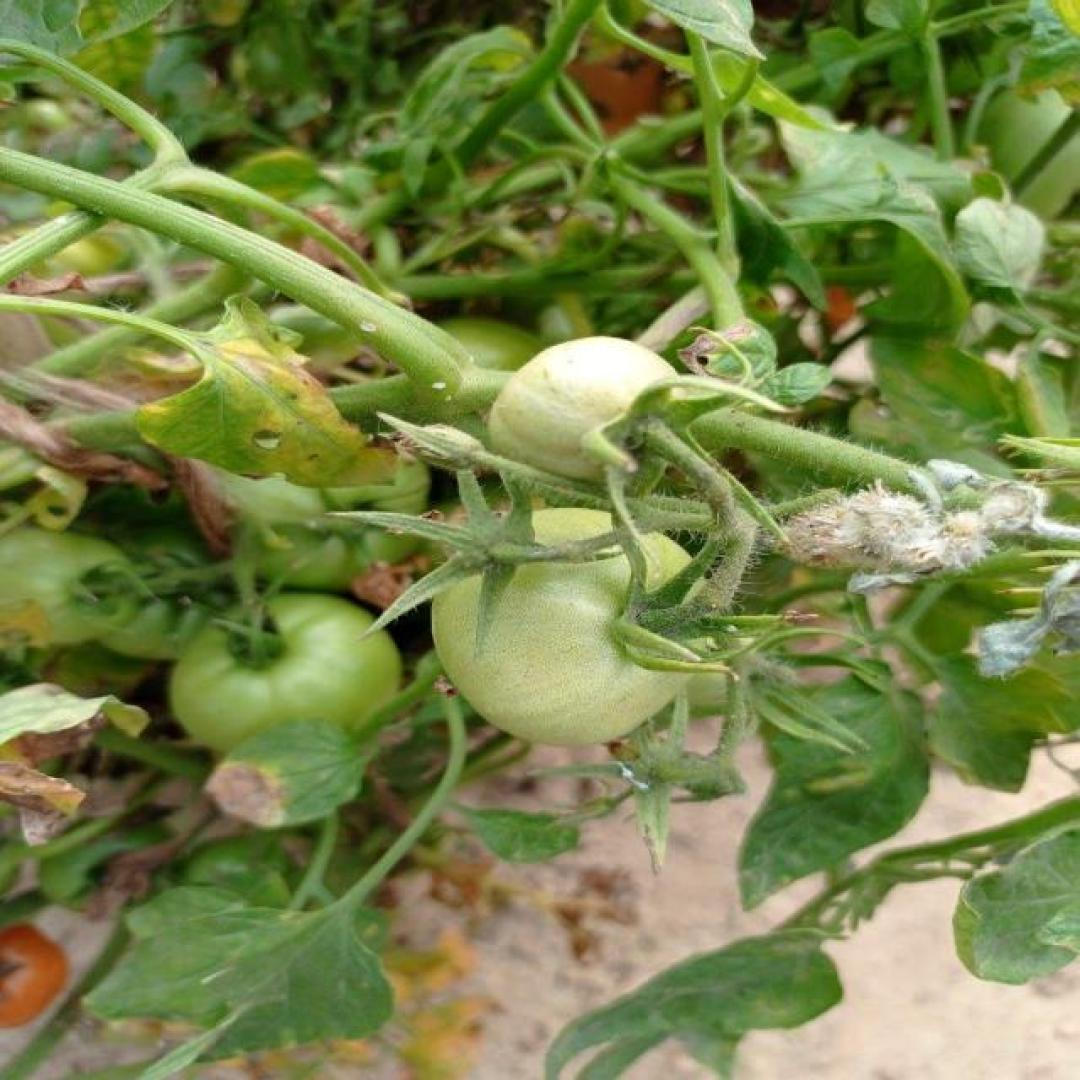mentah: (425, 505, 714, 749), (167, 589, 405, 759), (483, 338, 685, 500)
